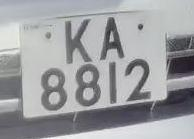1: (103, 58, 124, 108)
2: (121, 55, 157, 107)
8: (36, 64, 72, 114), (69, 61, 106, 109)
A: (98, 10, 130, 67)
K: (59, 14, 98, 68)
